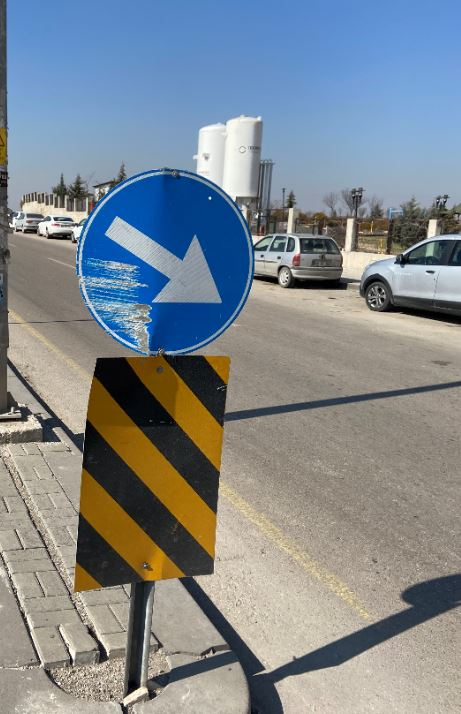Sagdan Git: (65, 165, 259, 364)
